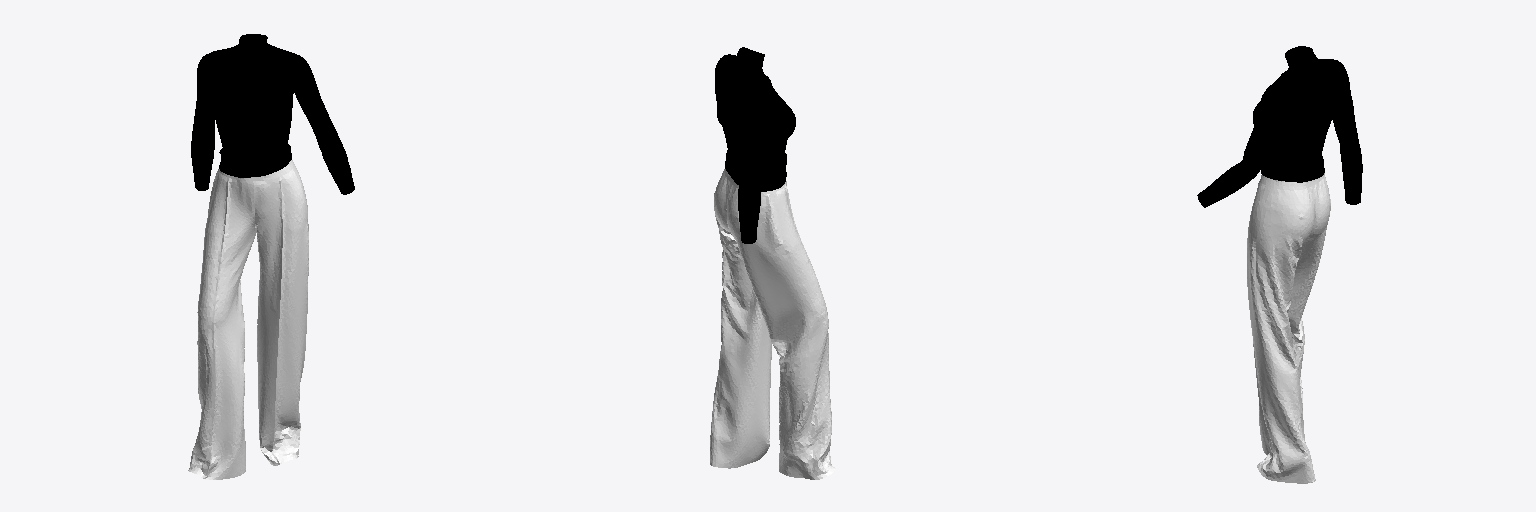
The model's file is DA_HighNeck+WidePants_0000080.obj.
The picture shows the model from 3 angles: view 1: azimuth 30°, elevation 25°; view 2: azimuth 150°, elevation 25°; view 3: azimuth 270°, elevation 25°; orthographic projection.
Size of the model in its own units: 0.5331 by 1.63 by 0.5837.